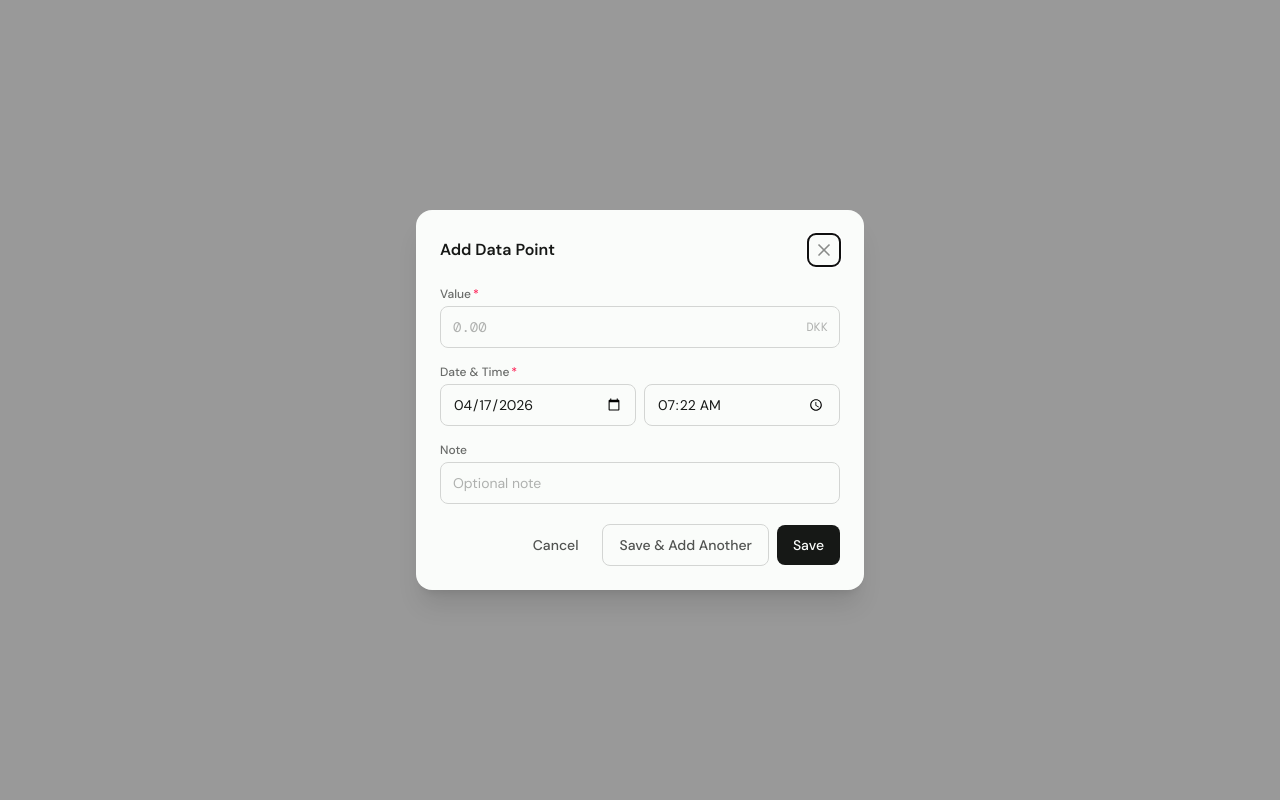
Scenario: DataPointDialog › Validation › shows error when value is empty
Click the button "Save" at [808, 545], box top-left (777, 525), bottom-right (840, 565)
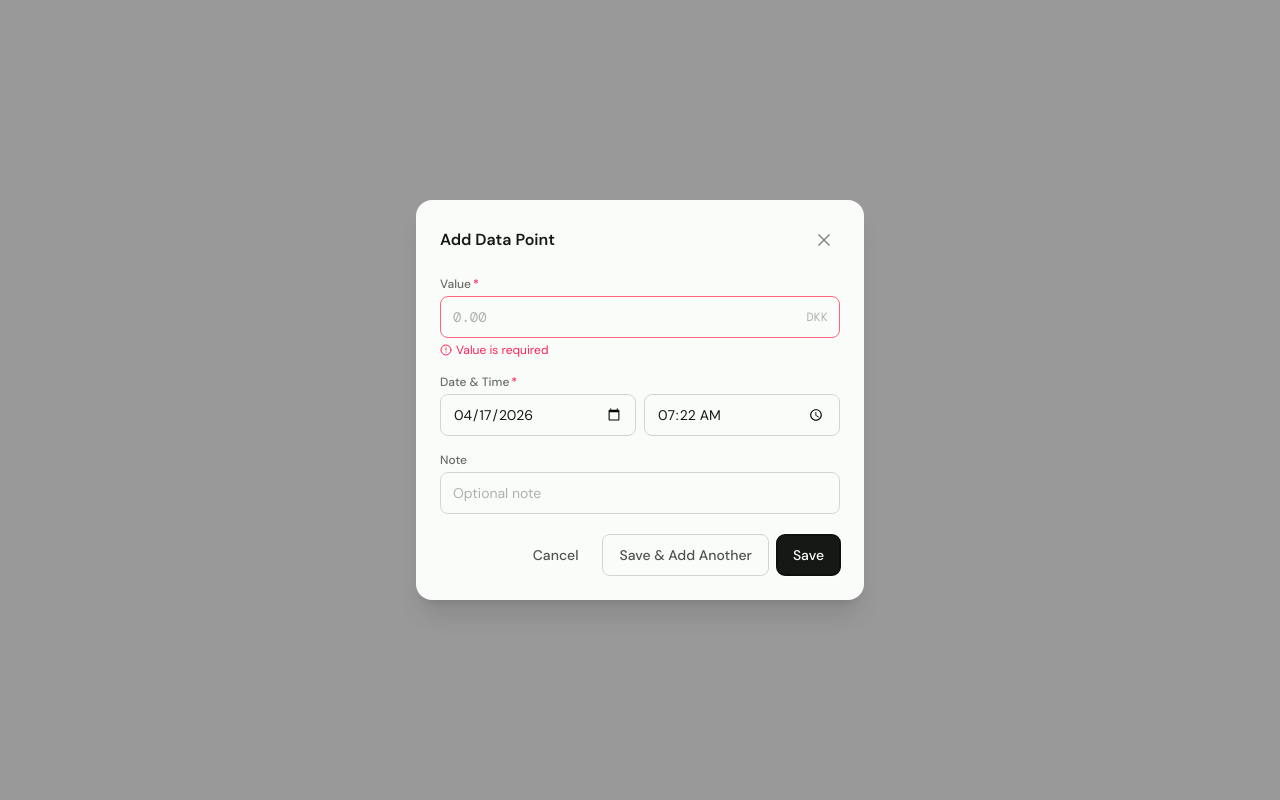
Result: the text "Value is required" is shown at top-left (440, 342), bottom-right (548, 358)
